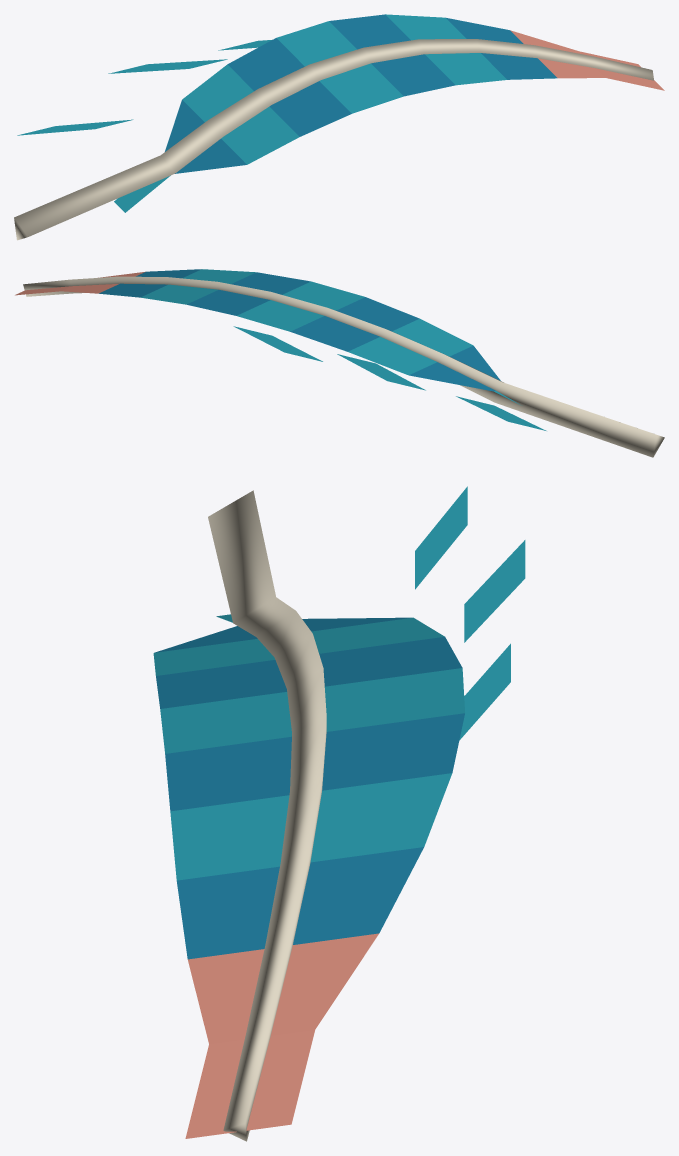
The model's file is col_feather_kingfisher.gltf.
3 renders of one model, top to bottom at view 1: azimuth 30°, elevation 25°; view 2: azimuth 150°, elevation 25°; view 3: azimuth 270°, elevation 25°, orthographic. The views are drawn at different scales.
Parts seen in each view (by area): view 1: col_feather_kingfisher; view 2: col_feather_kingfisher; view 3: col_feather_kingfisher.
Boxes of the visible parts, x1,y1,x2,y2 form: col_feather_kingfisher: (14, 14, 664, 240); col_feather_kingfisher: (15, 269, 664, 457); col_feather_kingfisher: (153, 486, 525, 1141).
Size of what is drawn, in the model's own units: 0.1914 by 0.0264 by 0.0485.
